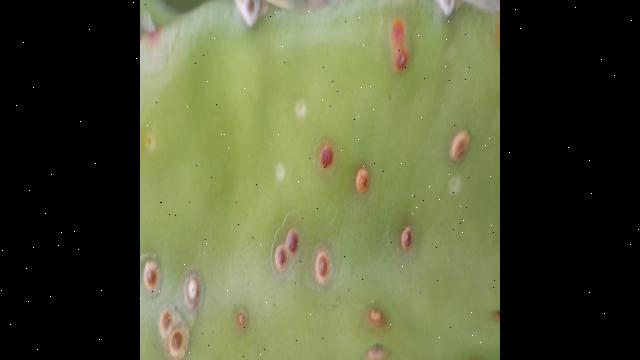stemcanker: (270, 217, 306, 281), (386, 14, 413, 81), (444, 121, 478, 169), (180, 267, 207, 320), (140, 247, 165, 301), (312, 133, 342, 176), (312, 244, 339, 291), (350, 161, 379, 204), (396, 219, 422, 263), (362, 301, 393, 332), (165, 327, 192, 359), (154, 304, 176, 339), (230, 305, 251, 337)
